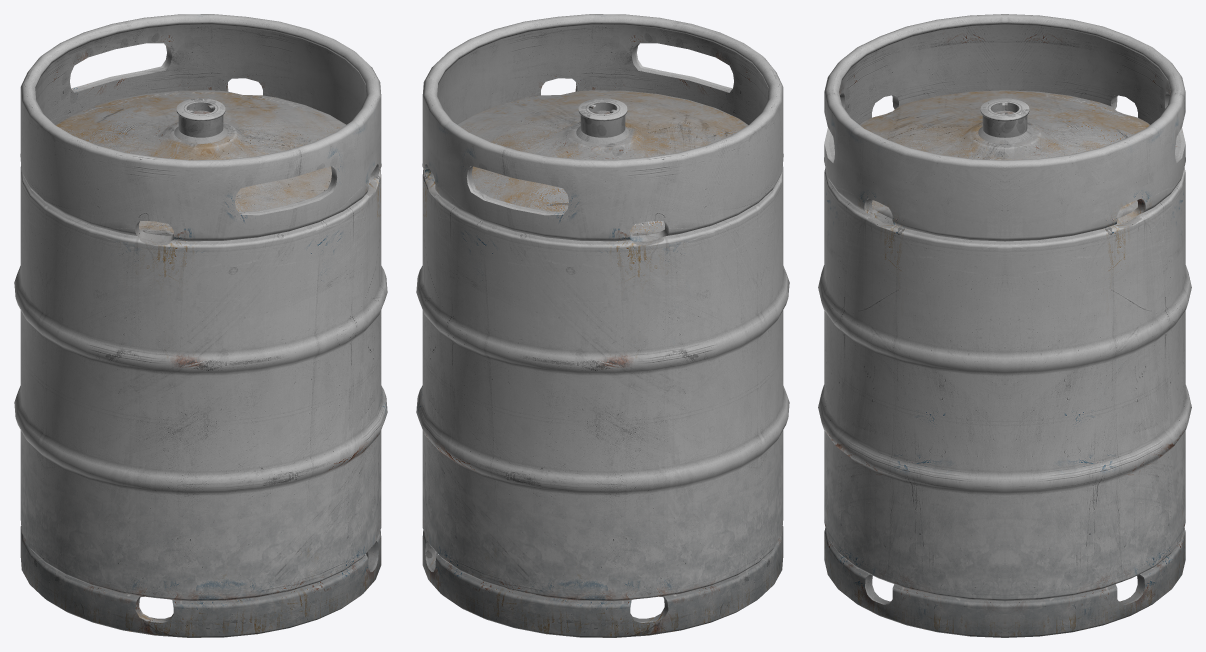
The model's file is Kegs_01a_snaps011.fbx.
The picture shows the model from 3 angles, left to right: view 1: azimuth 30°, elevation 25°; view 2: azimuth 150°, elevation 25°; view 3: azimuth 270°, elevation 25°; orthographic projection.
Parts seen in each view (by area): view 1: Kegs_01a_snaps011_LOD0; view 2: Kegs_01a_snaps011_LOD0; view 3: Kegs_01a_snaps011_LOD0.
Part boxes in pixels (left/top/right/bottom): Kegs_01a_snaps011_LOD0: left=14, top=14, right=387, bottom=637; Kegs_01a_snaps011_LOD0: left=416, top=14, right=789, bottom=637; Kegs_01a_snaps011_LOD0: left=818, top=14, right=1191, bottom=637.
Size of what is drawn, in the model's own units: 0.4158 by 0.5839 by 0.4158.
